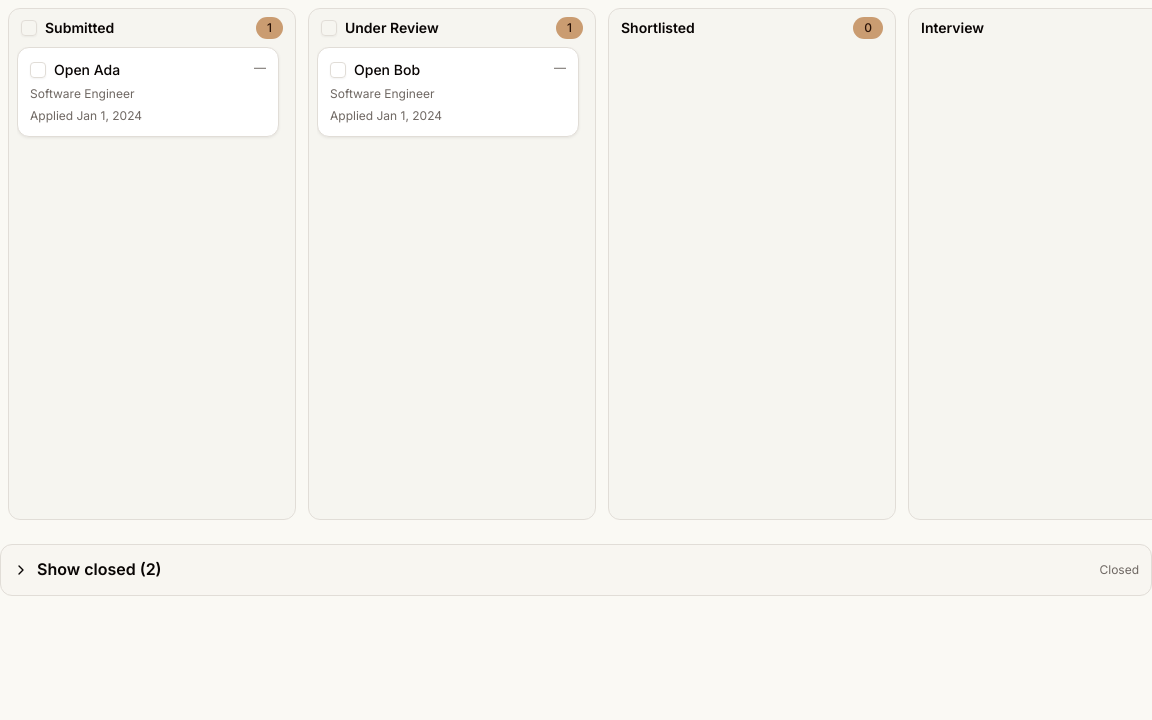
Test: AtsPipelineView — bulk selection (P-2.10) › shows bulk toolbar after a candidate card is selected
This screenshot has width=1152, height=720.
Step 1. Click the checkbox with test id "candidate-select-app-1" → [38, 70], box [30,62,46,78]
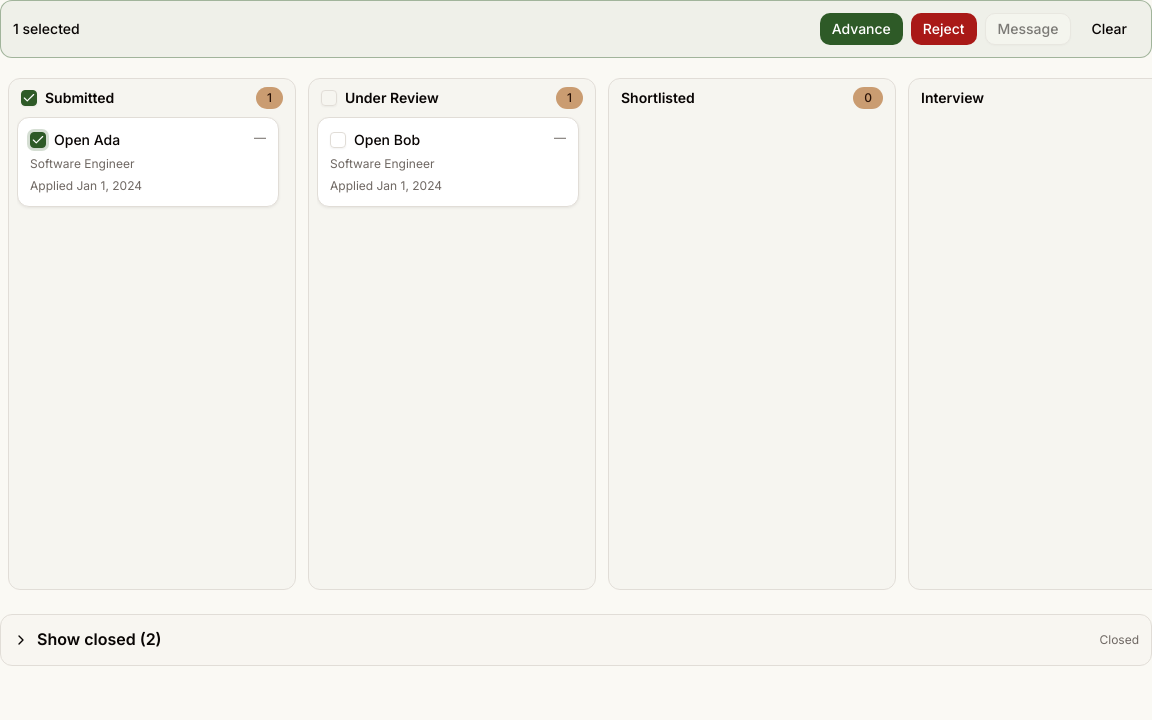
Expected: the element with test id "bulk-action-toolbar" is shown, [0,0,1151,58]
Expected: the text with test id "bulk-selected-count" reads "1 selected", [13,20,80,37]
